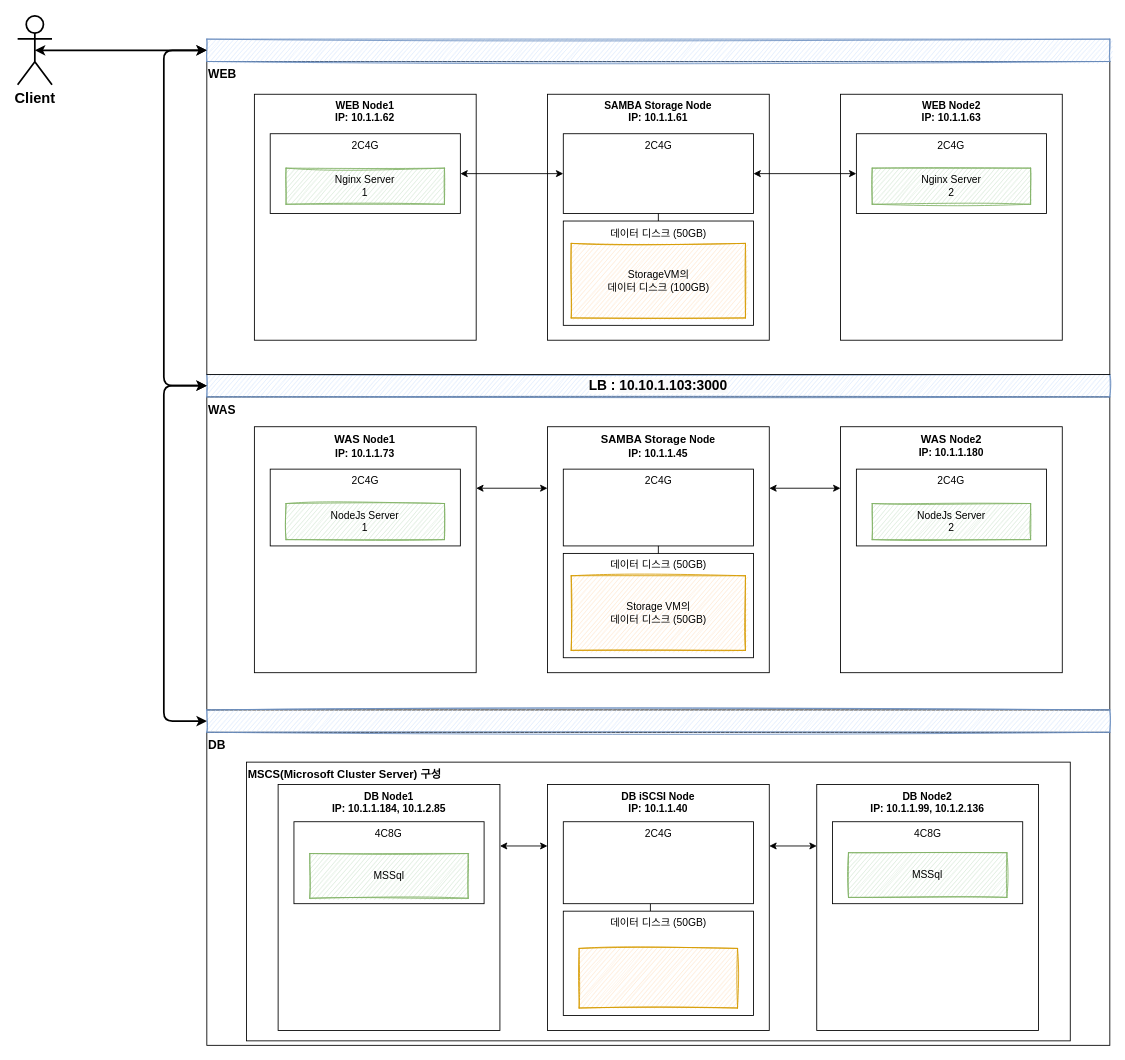
The diagram is 1125 pixels wide and 1060 high, and some of its shapes have lost their labels. Here are the shapes that lost their labels. From the top down, the centre of each, then its label:
point (658, 49): LB : 10.10.1.104:3000
point (658, 720): DB Failover Cluster : 10.1.1.170:1433
point (658, 978): iSCSI (data, quorum)
